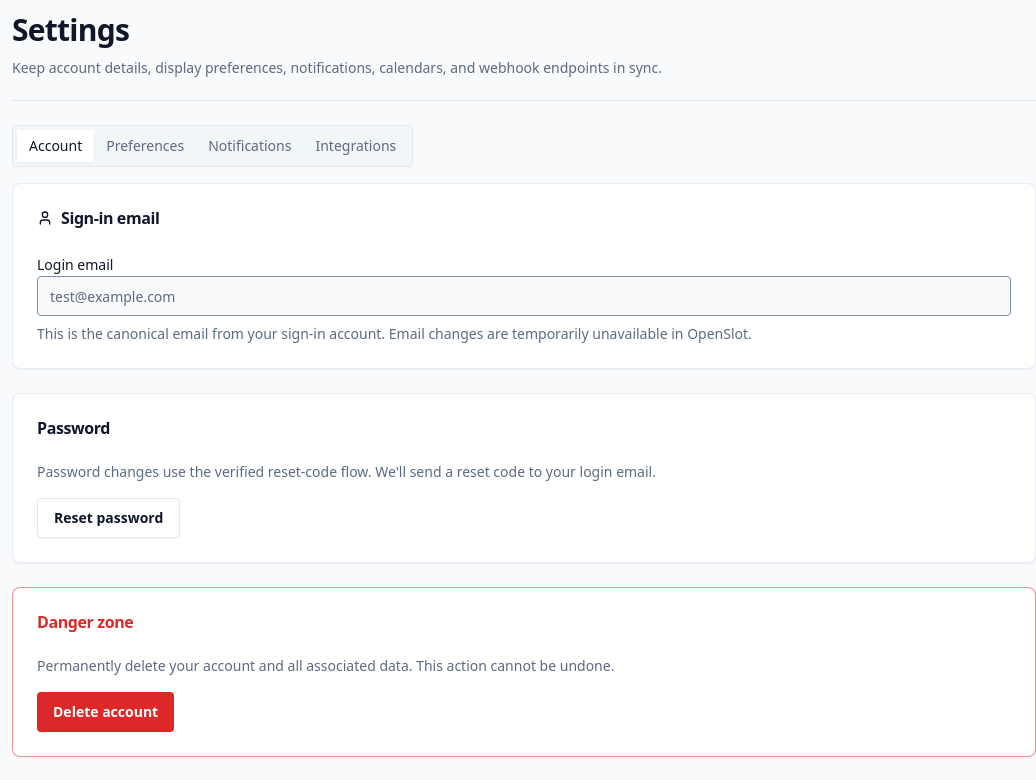
Test: SettingsClient › clears the notifications dirty baseline when its draft is reverted
The image size is (1036, 780).
Click the tab "Notifications".
click(250, 146)  # box [196,130,304,162]
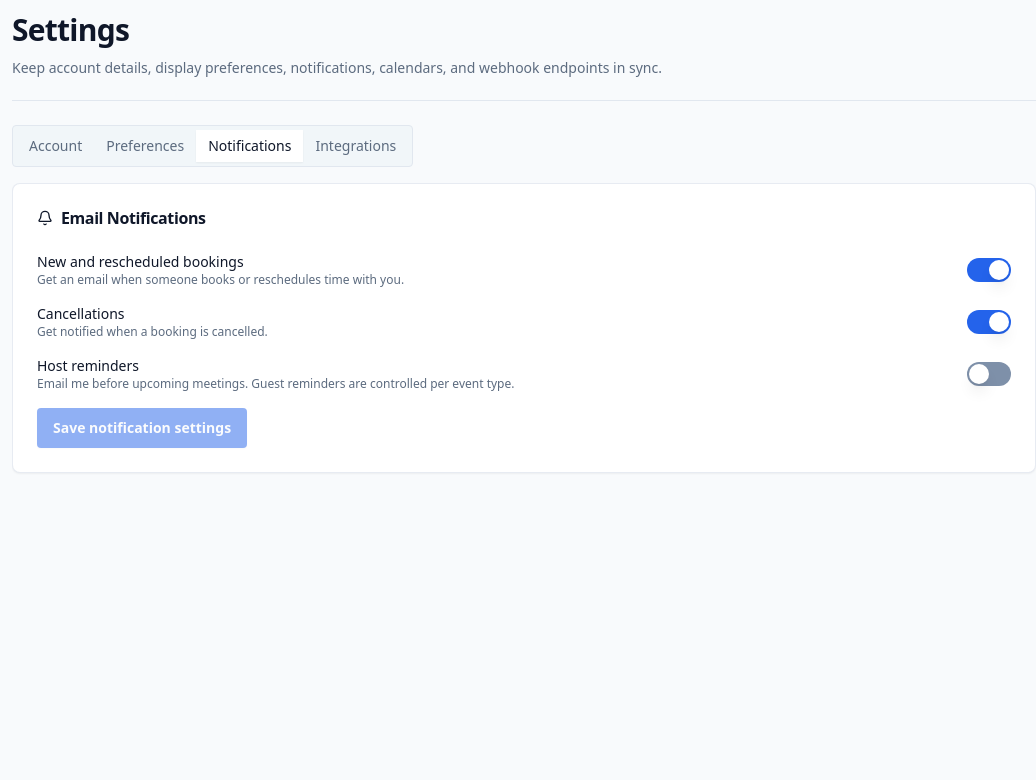
Click the switch named "Toggle cancellation notifications".
click(989, 322)  # box [967,310,1011,334]
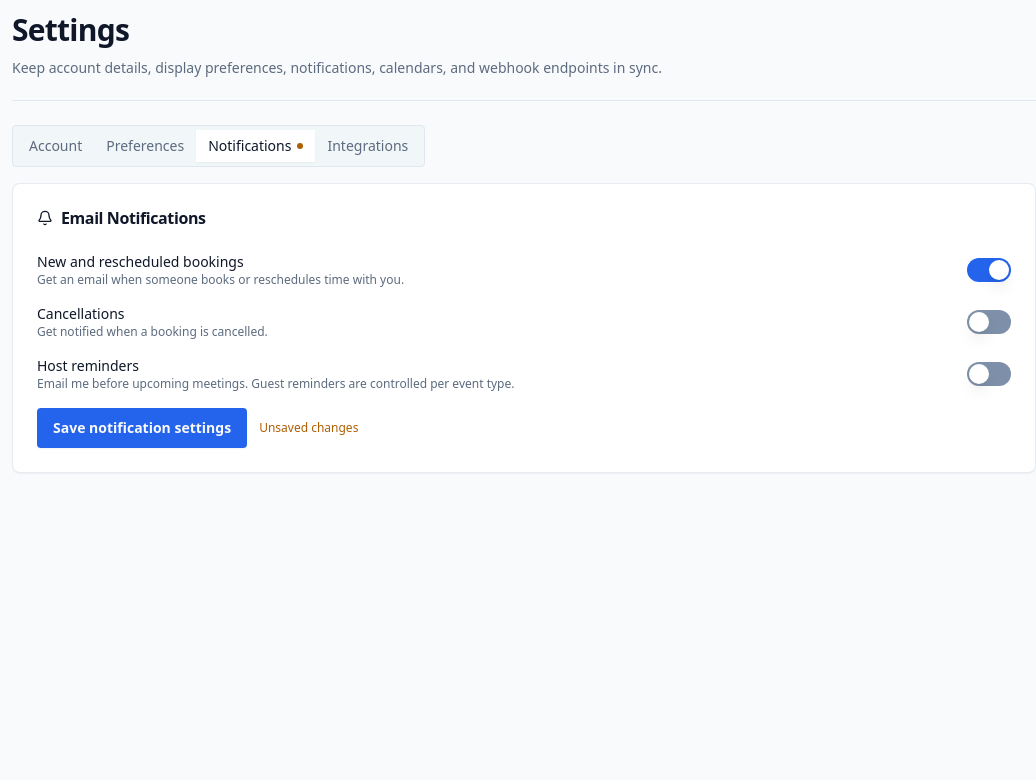
Click the switch named "Toggle cancellation notifications".
click(989, 322)  # box [967,310,1011,334]
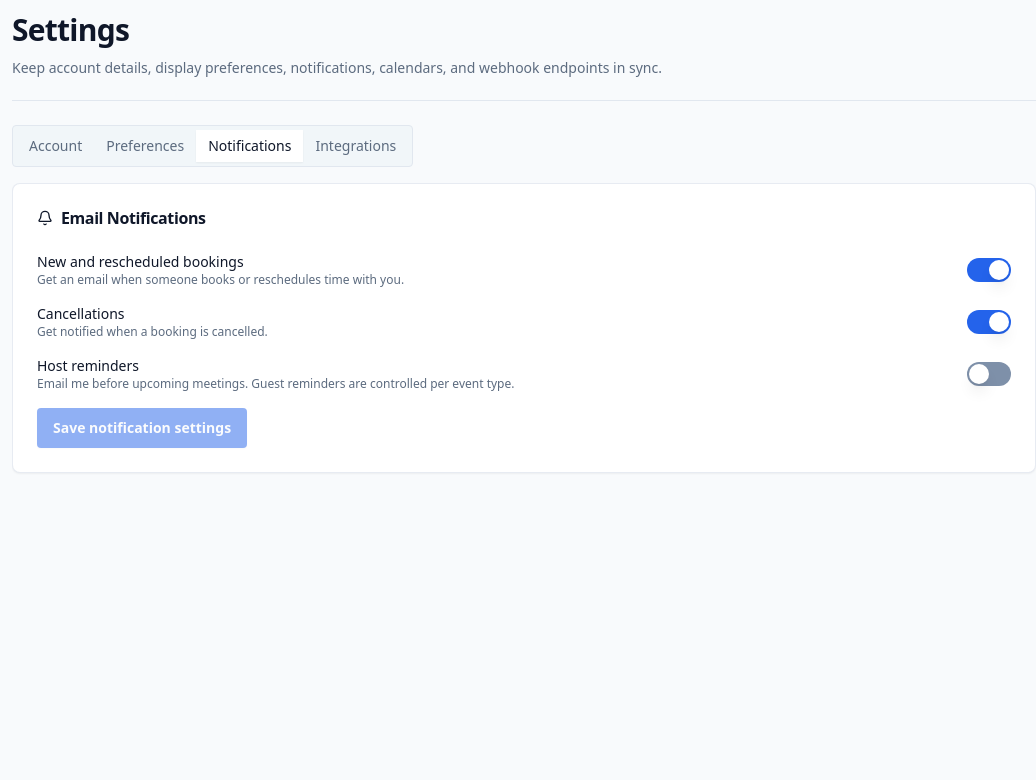
Expected: the tab "Notifications" is shown, [196,130,304,162]
Expected: the button "Save notification settings" is disabled, [37,408,247,448]
